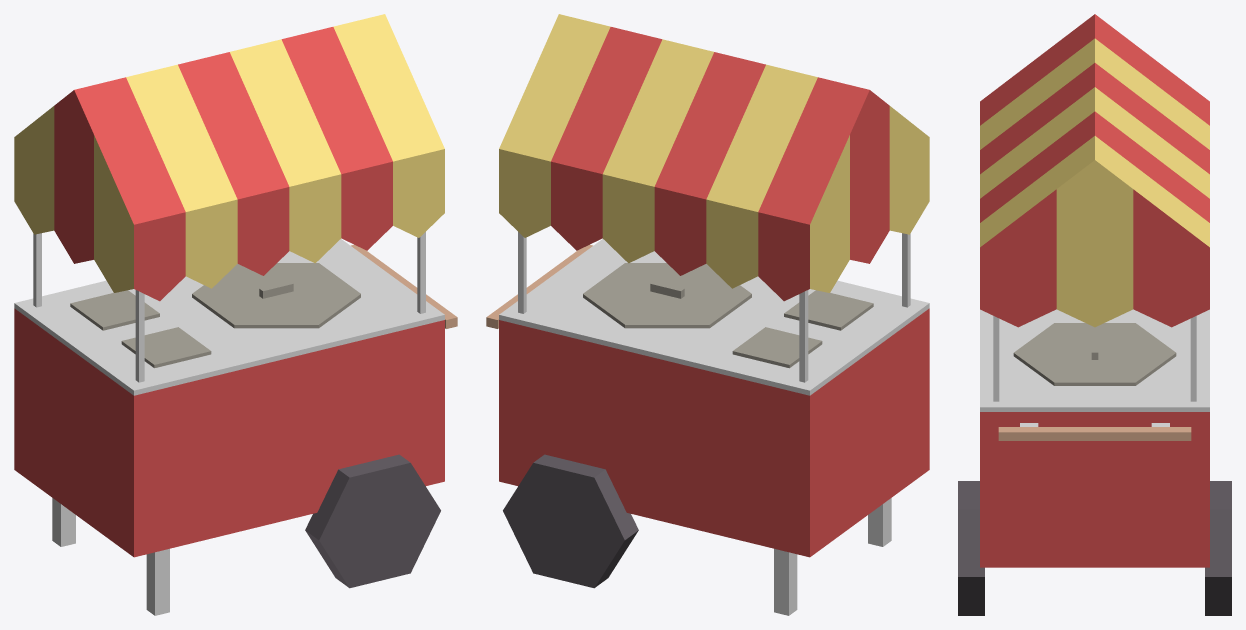
The model's file is Hot_Dog.fbx.
3 views of the same model, side by side, from view 1: azimuth 30°, elevation 25°; view 2: azimuth 150°, elevation 25°; view 3: azimuth 270°, elevation 25° (orthographic). The views are drawn at different scales.
Parts seen in each view (by area): view 1: Hot_Dog; view 2: Hot_Dog; view 3: Hot_Dog.
Part boxes in pixels (x1,y1,x2,y2): Hot_Dog: (14,14,457,615); Hot_Dog: (486,14,929,615); Hot_Dog: (958,14,1231,615).
Size of the model in its own units: 1.69 by 2.41 by 1.25.
Materials: 1 (1 with a texture image).
